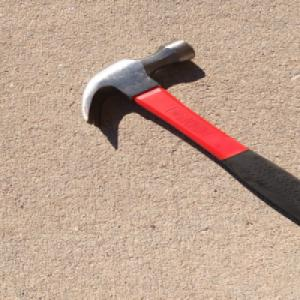Hammer: (77, 37, 300, 230)
